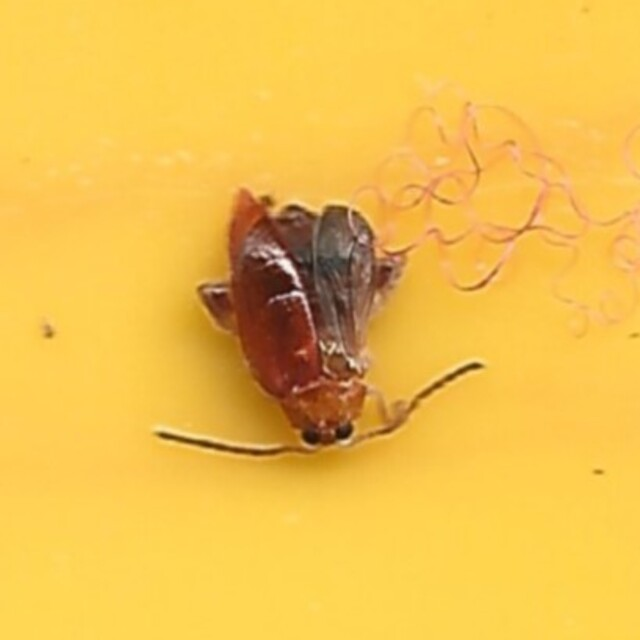Coleoptera: (156, 180, 484, 460)
